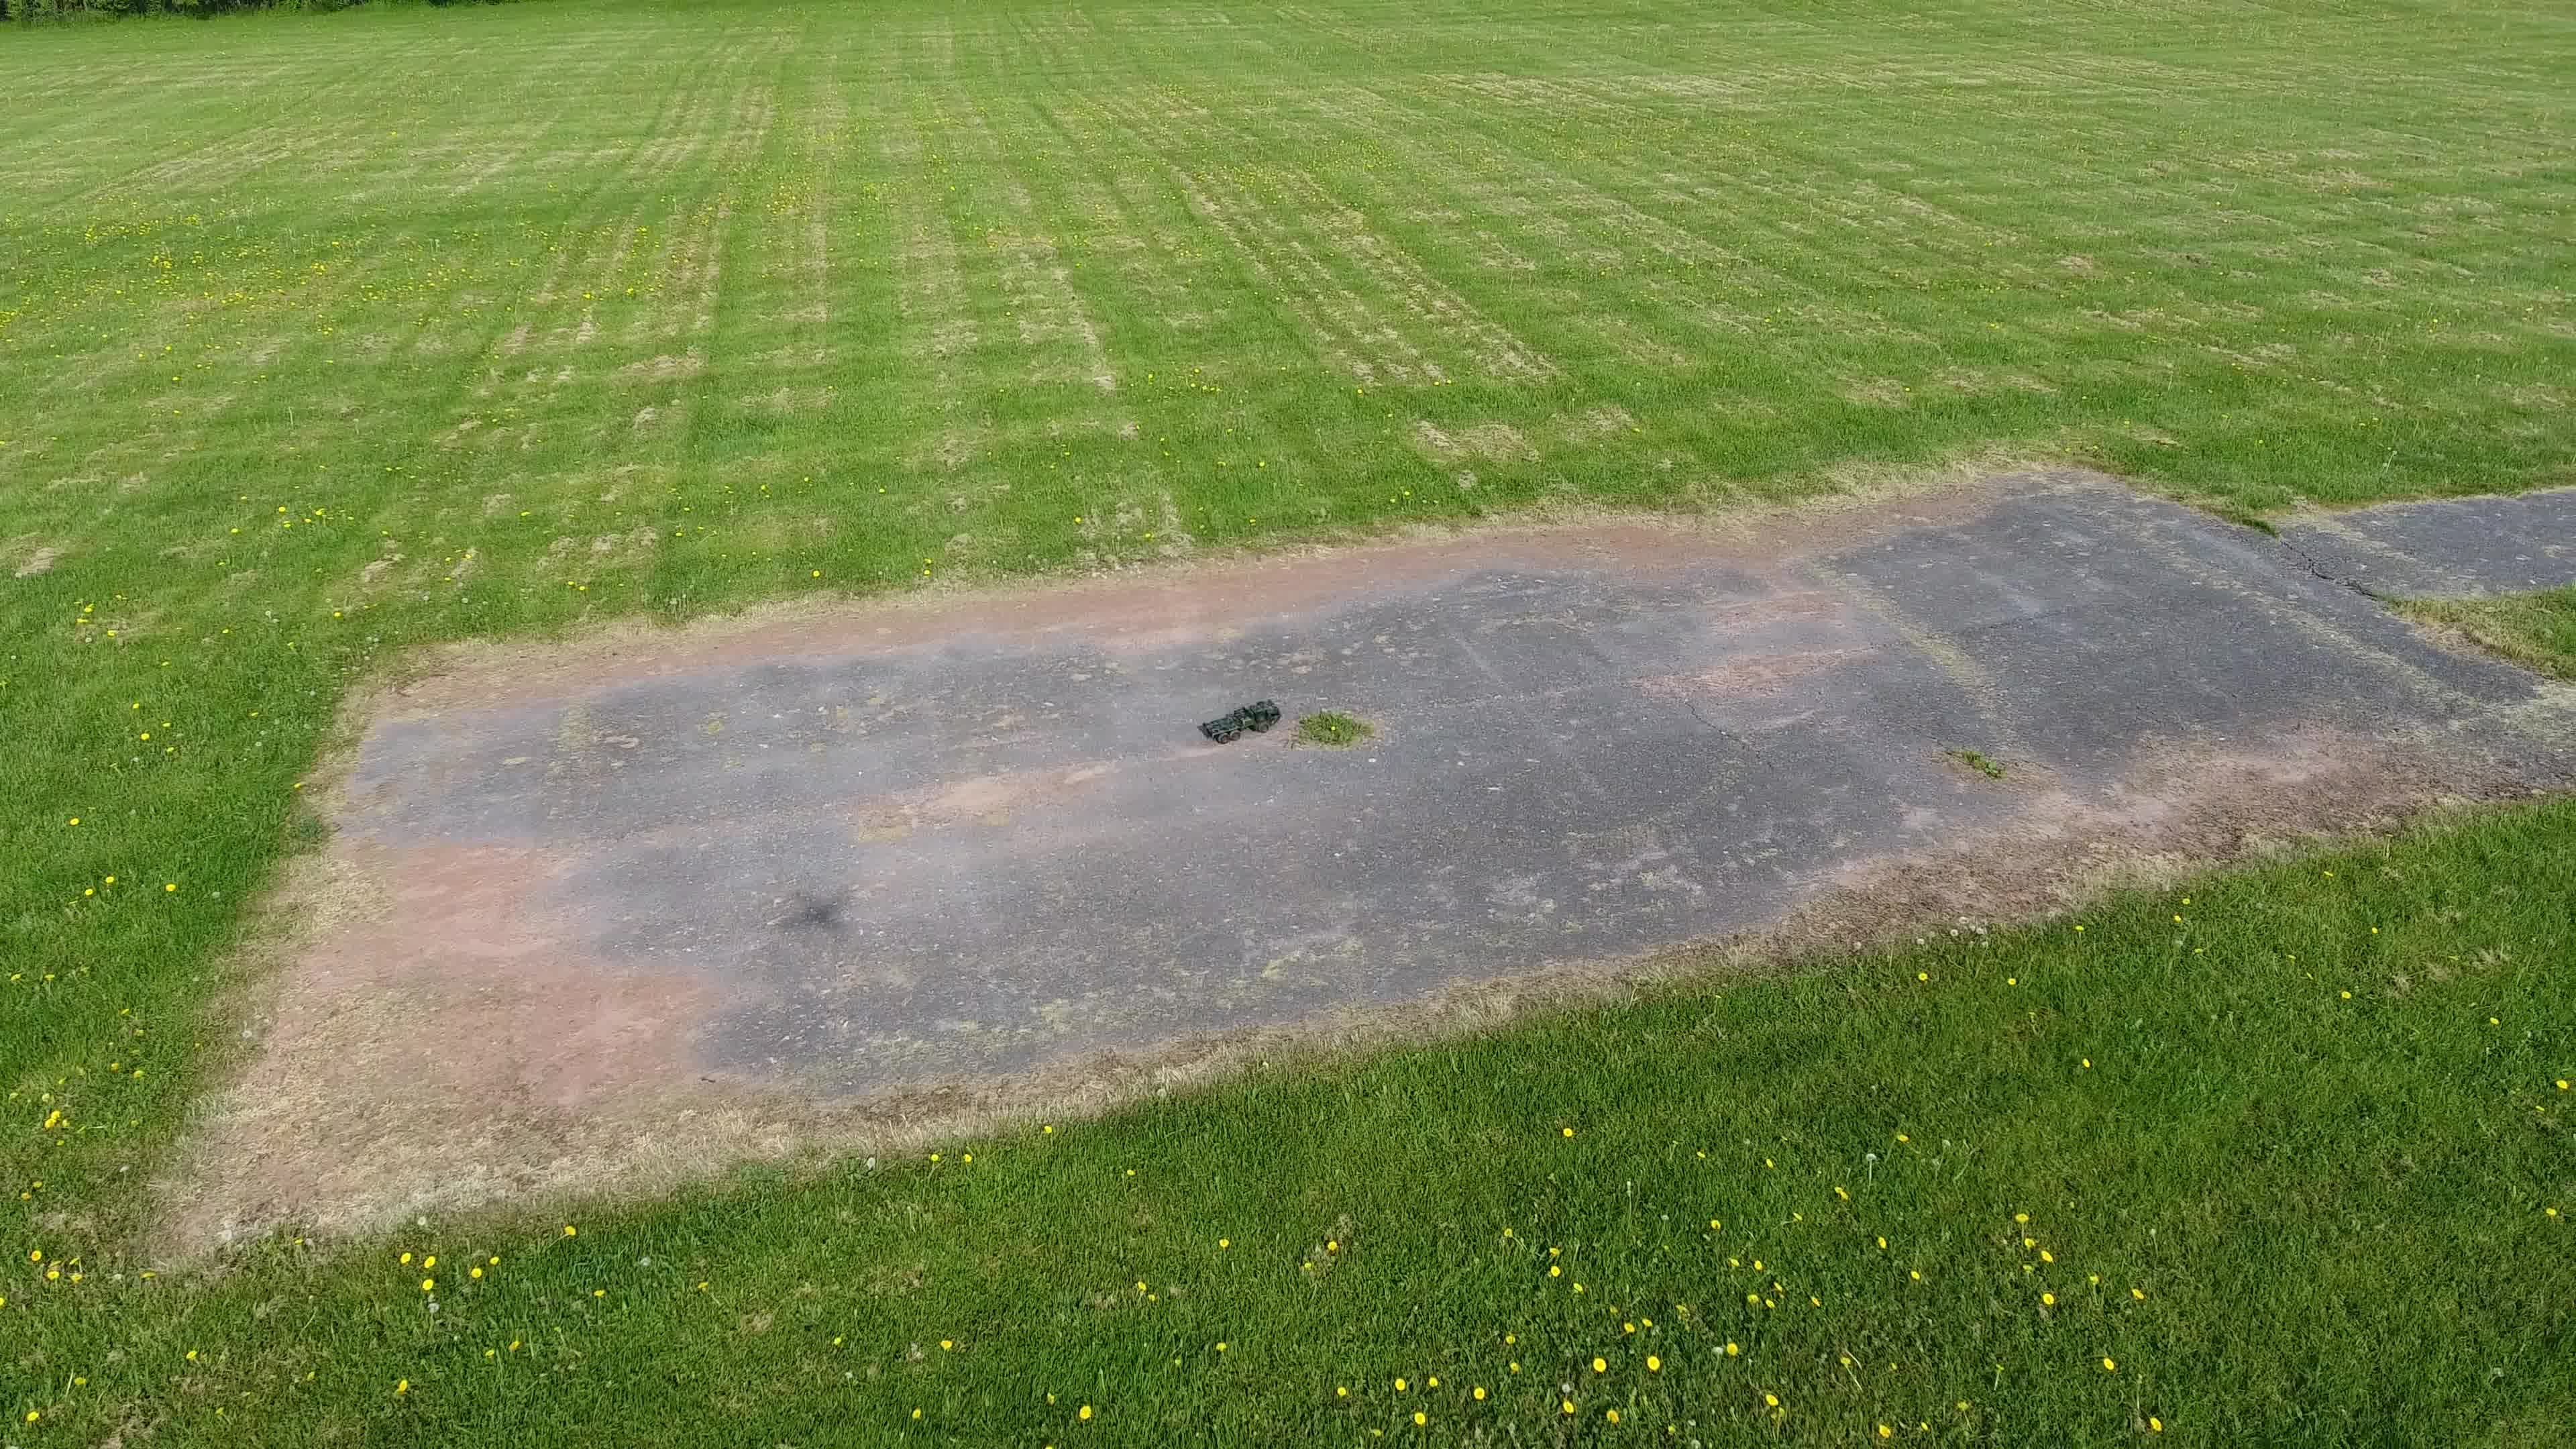transporter9: (1196, 697, 1284, 747)
